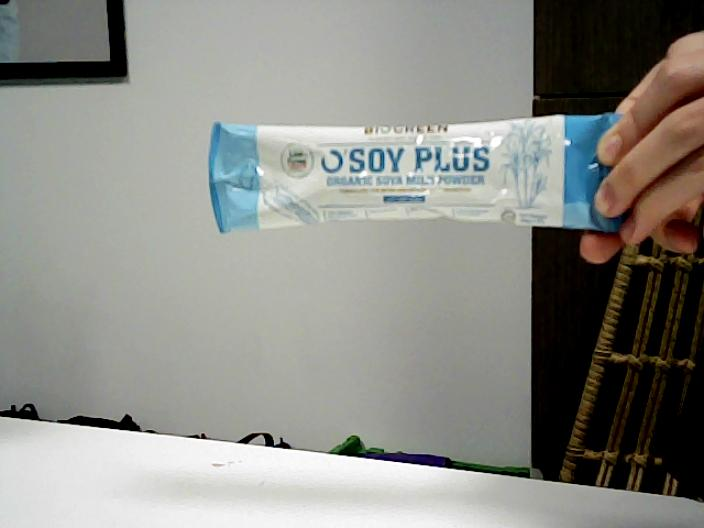Adult_Milk_0-99g_Halal_NonHealthy: (212, 124, 596, 225)
